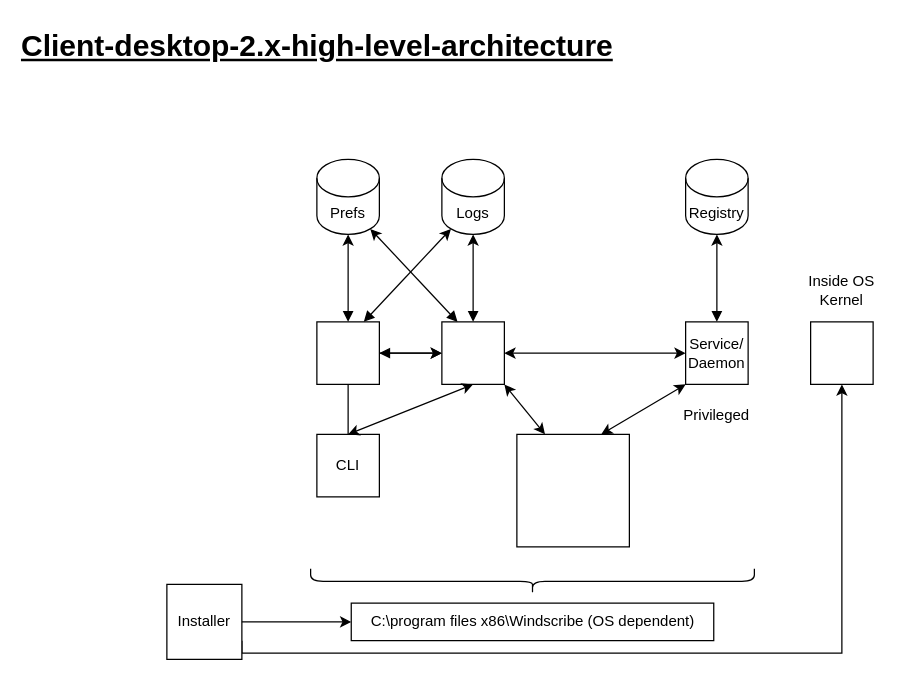
Image size: 901x685. Some labels were removed from this diagram. The centre of each missing label's shape, as x and y in pixels:
"Drivers/ Kexts" belongs at (841,352).
"Engine/ Backend" belongs at (472,352).
"GUI" belongs at (347,352).
"Helpers: * openvpn * wireguard * wstunnel ...." belongs at (572,490).
